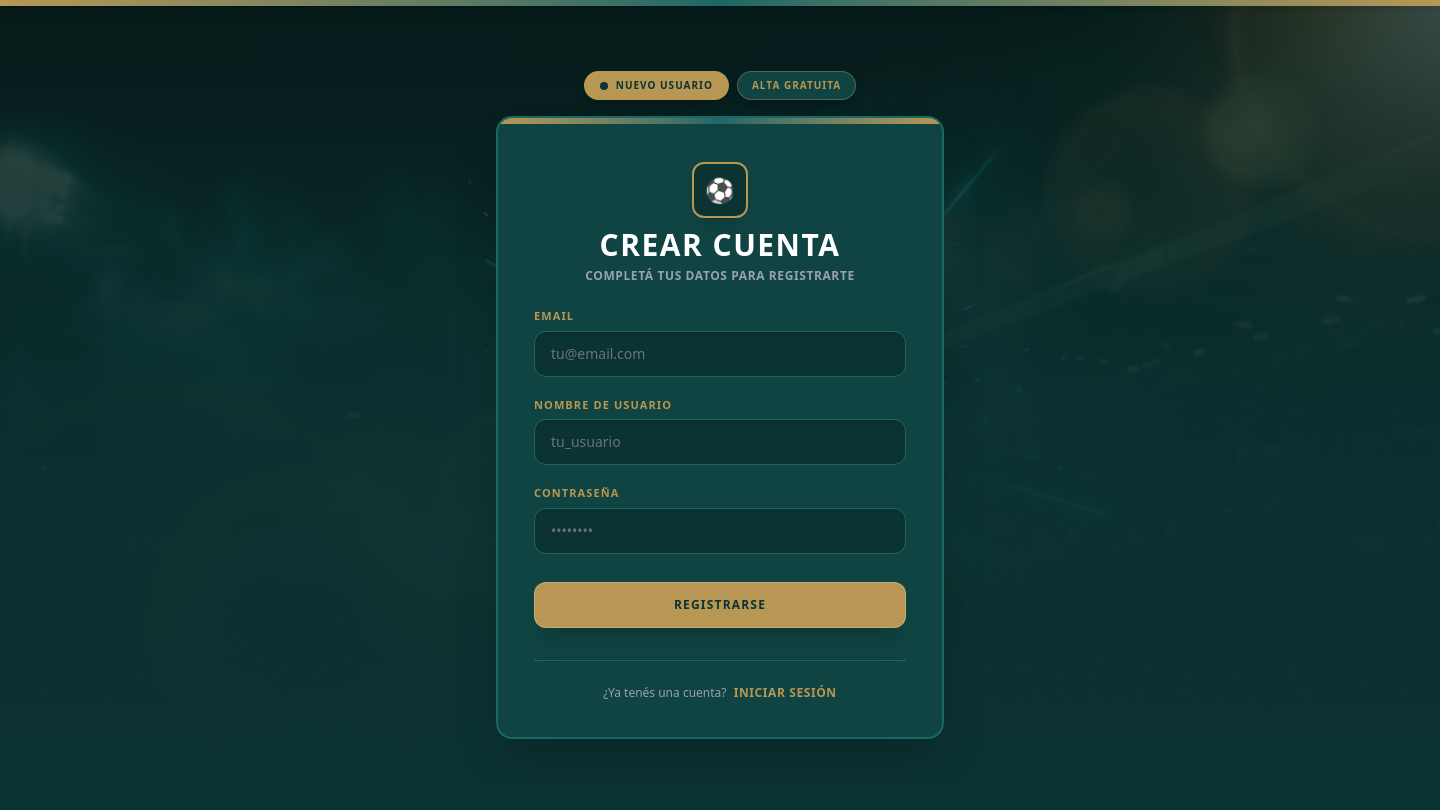
Test: RegisterPage › deshabilita el botón mientras isLoading = true
Type "test@mail.com" into the field labelled "Email". click: (720, 354)
box: [534,331,906,377]
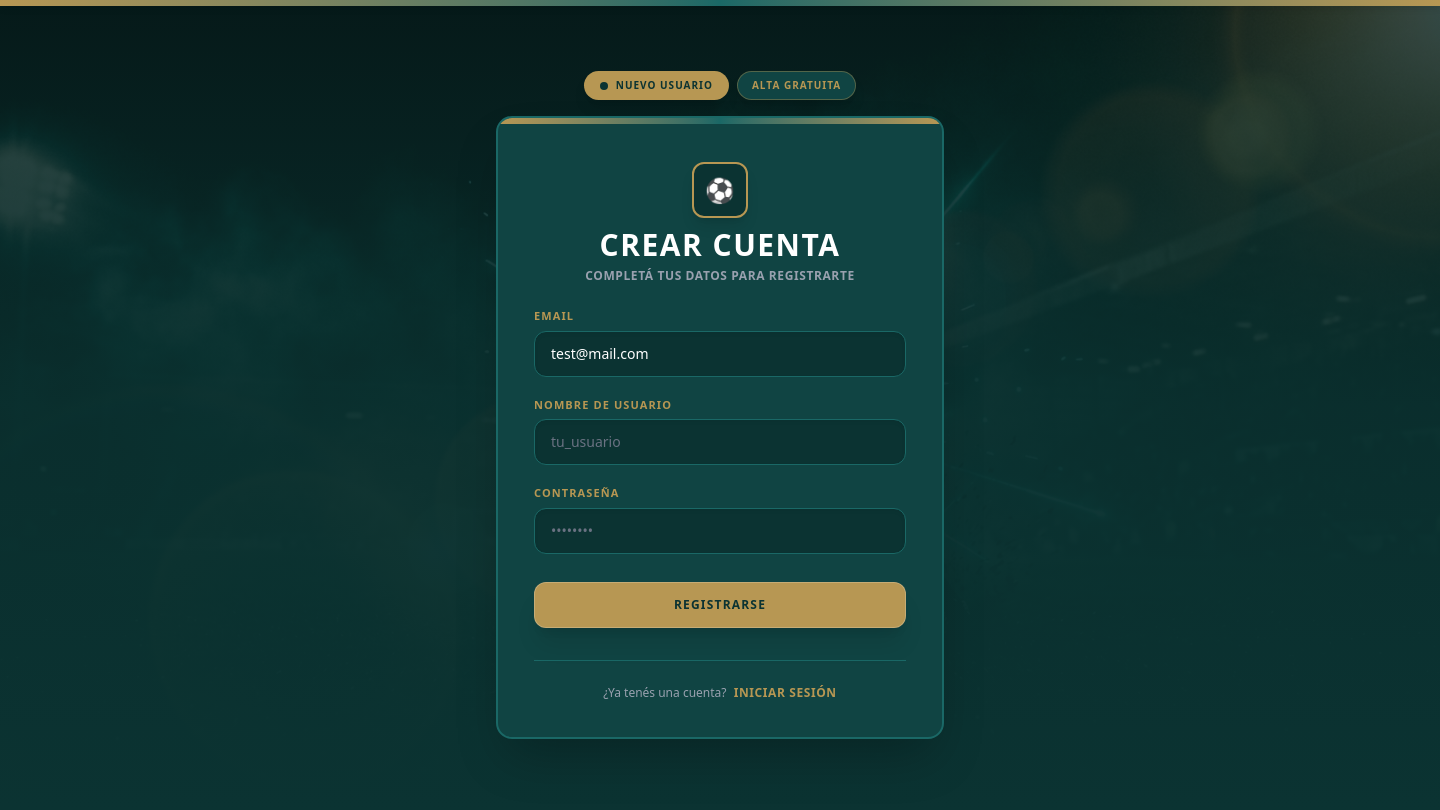
Type "test-usuario" into the field labelled "Nombre de usuario". click: (720, 442)
box: [534,419,906,465]
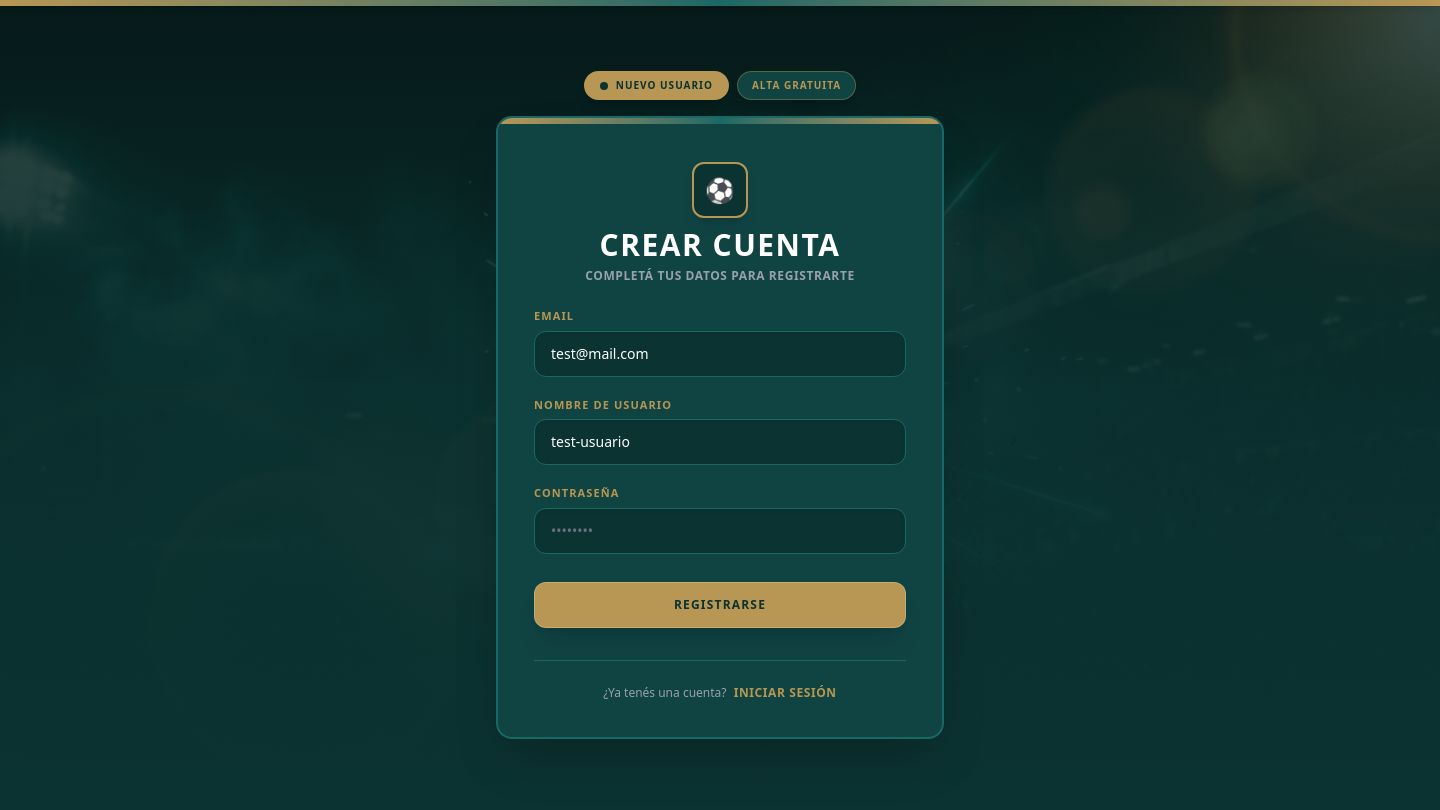
Type "Abcd1234!" into the password field labelled "Contraseña". click: (720, 531)
box: [534,508,906,554]
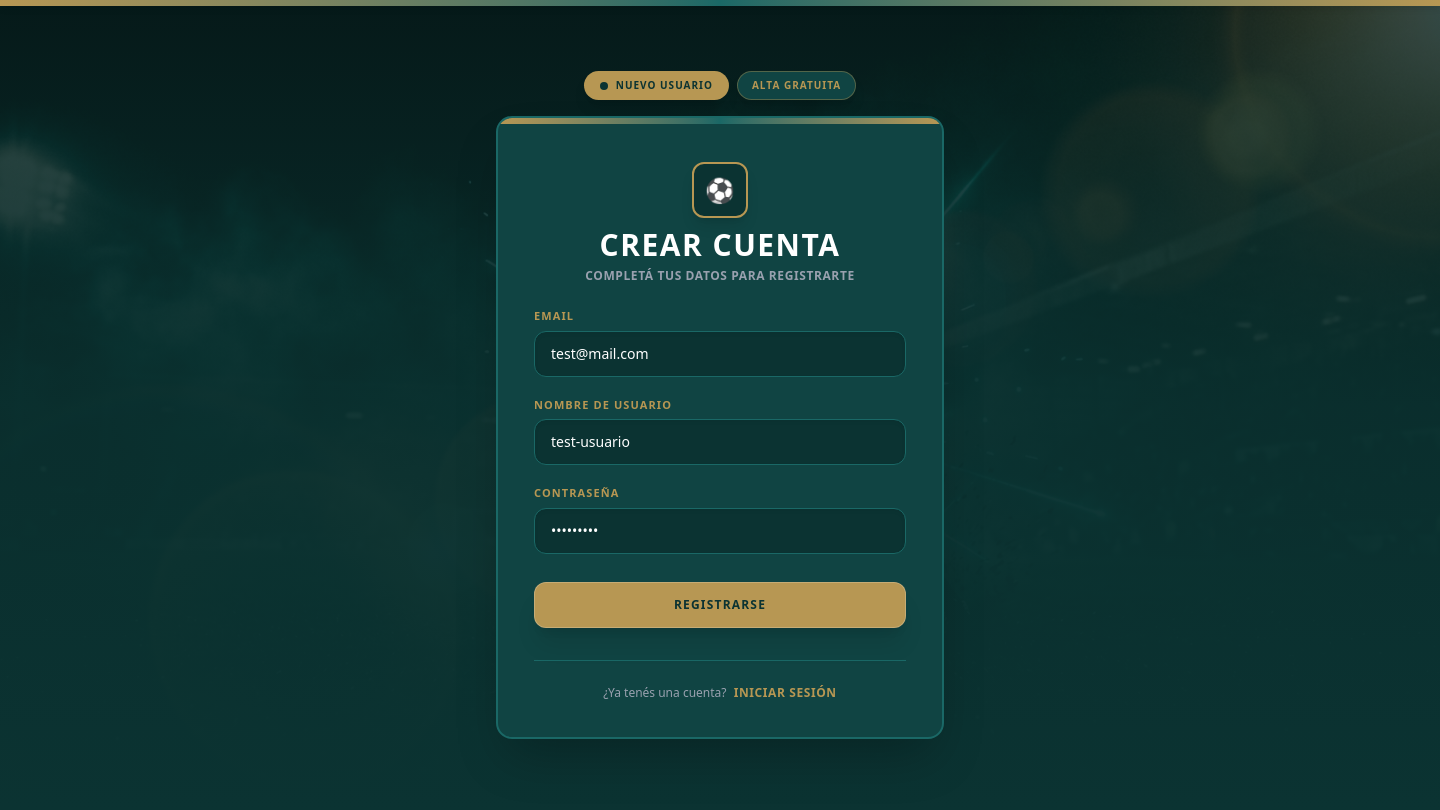
Click the button "Registrarse". click: (720, 605)
box: [534,582,906,628]
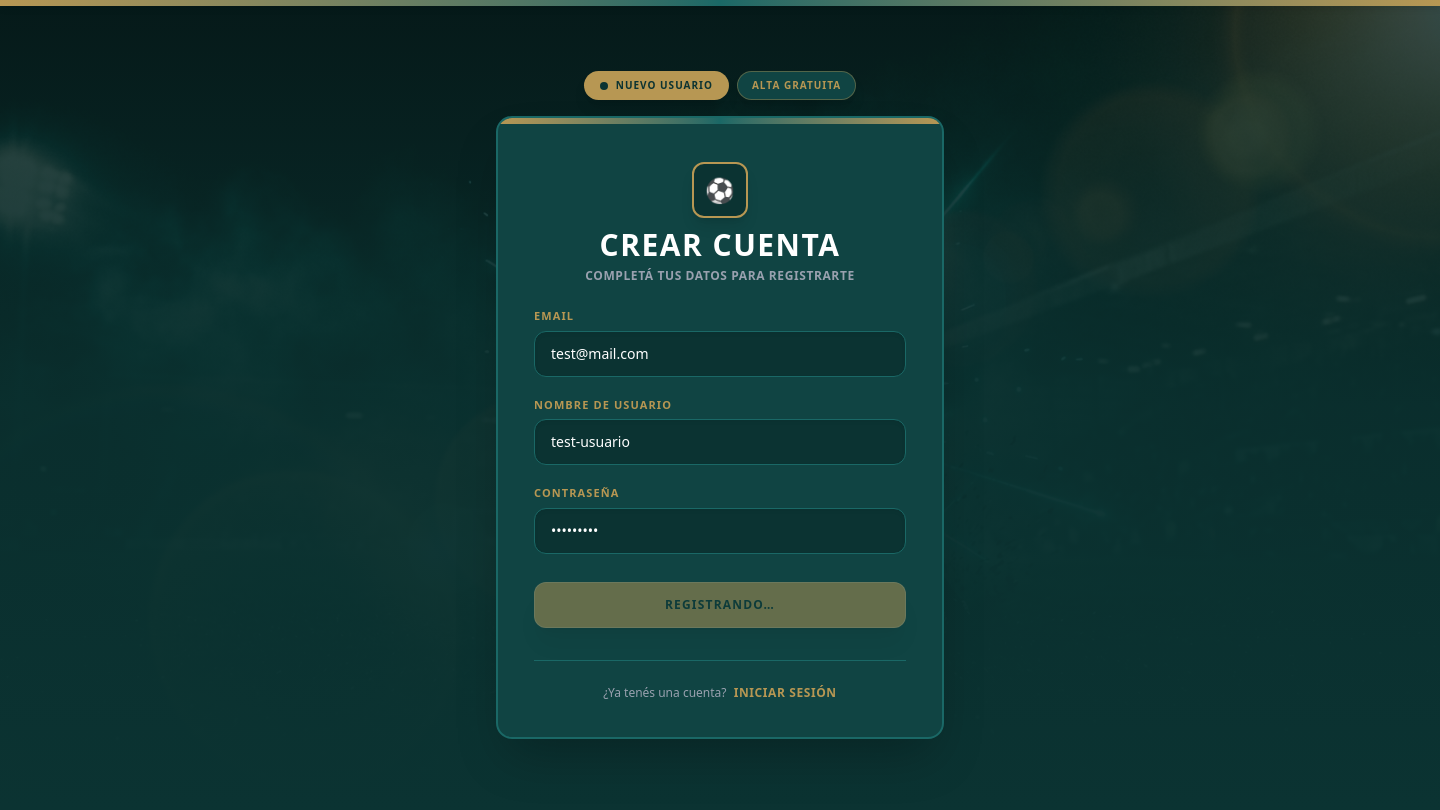
Now the button "Registrando…" is disabled, box [534,582,906,628]
